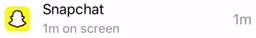name: (38, 2, 111, 18)
time: (41, 22, 62, 36)
